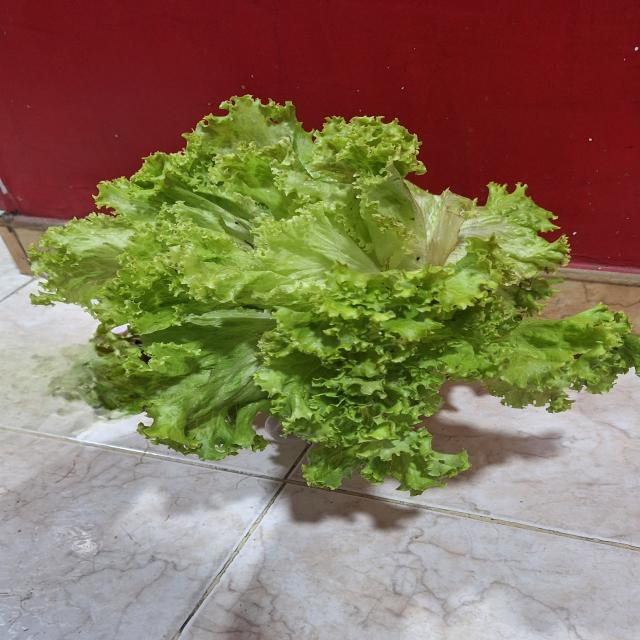lista_para_cosechar: (30, 96, 640, 495)
